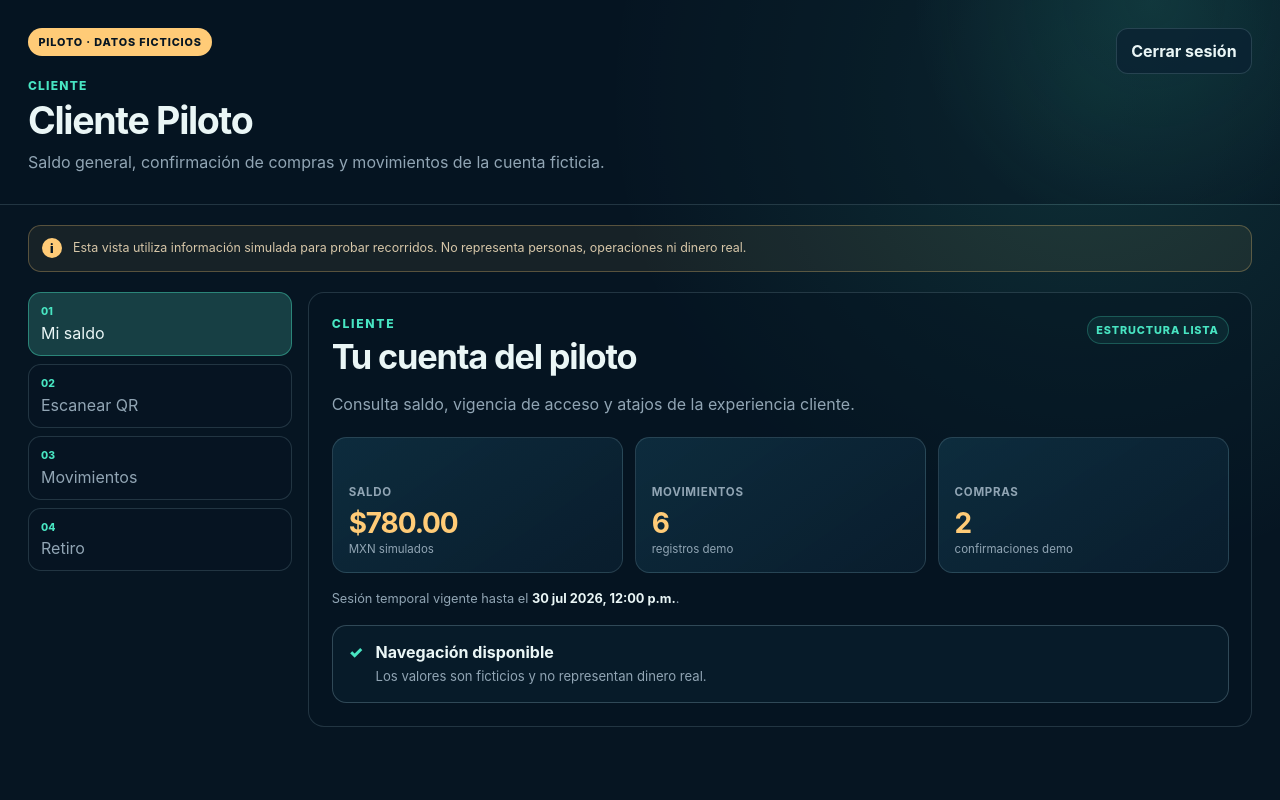
Test: RoleWorkspace › presenta navegación específica para client
This screenshot has width=1280, height=800.
Expected: the text "información simulada" is shown, 73,240 -> 746,255
What coordinates should you click on to do the following:
click the button "02 Escanear QR"
I would click on:
 (90, 405)
Its box is 28,364 -> 292,428.
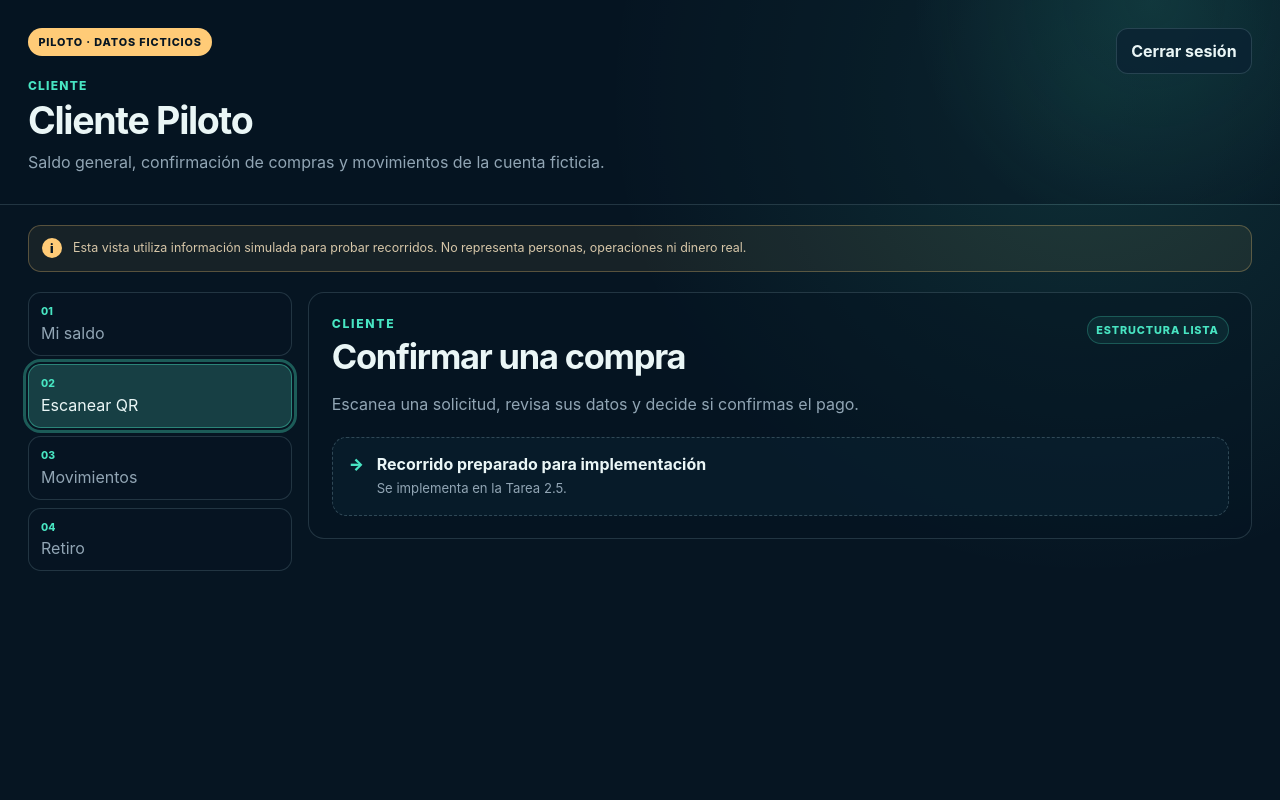
Now the text "Recorrido preparado para implementación" is shown, box 377,454 -> 706,474
